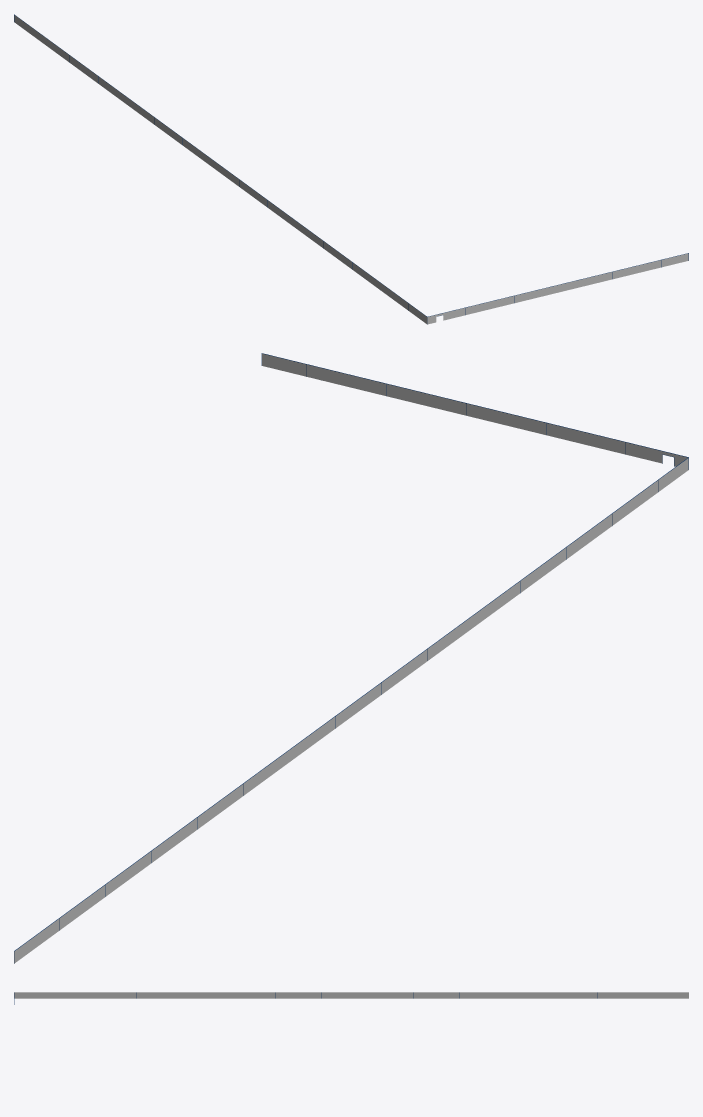
The model's file is reja_cubas_almacenamiento.FBX.
3 renders of one model, top to bottom at view 1: azimuth 30°, elevation 25°; view 2: azimuth 150°, elevation 25°; view 3: azimuth 270°, elevation 25°, orthographic. The views are drawn at different scales.
Parts seen in each view (by area): view 1: reja cubas; view 2: reja cubas; view 3: reja cubas.
Boxes of the visible parts, x1,y1,x2,y2 form: reja cubas: [14, 14, 688, 324]; reja cubas: [14, 353, 688, 963]; reja cubas: [14, 992, 688, 1004].
Size of the model in its own units: 2871 by 82.24 by 7853.
